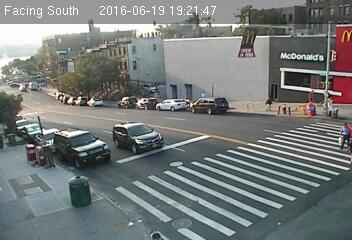neg: (234, 167, 253, 192), (74, 79, 88, 97), (200, 41, 213, 59), (156, 47, 168, 64), (159, 138, 171, 154), (188, 156, 200, 172), (105, 194, 117, 209), (233, 125, 244, 140), (57, 147, 67, 161), (113, 68, 123, 81), (201, 106, 210, 118)
pos: (332, 117, 351, 151), (262, 95, 275, 112), (198, 90, 207, 101)
